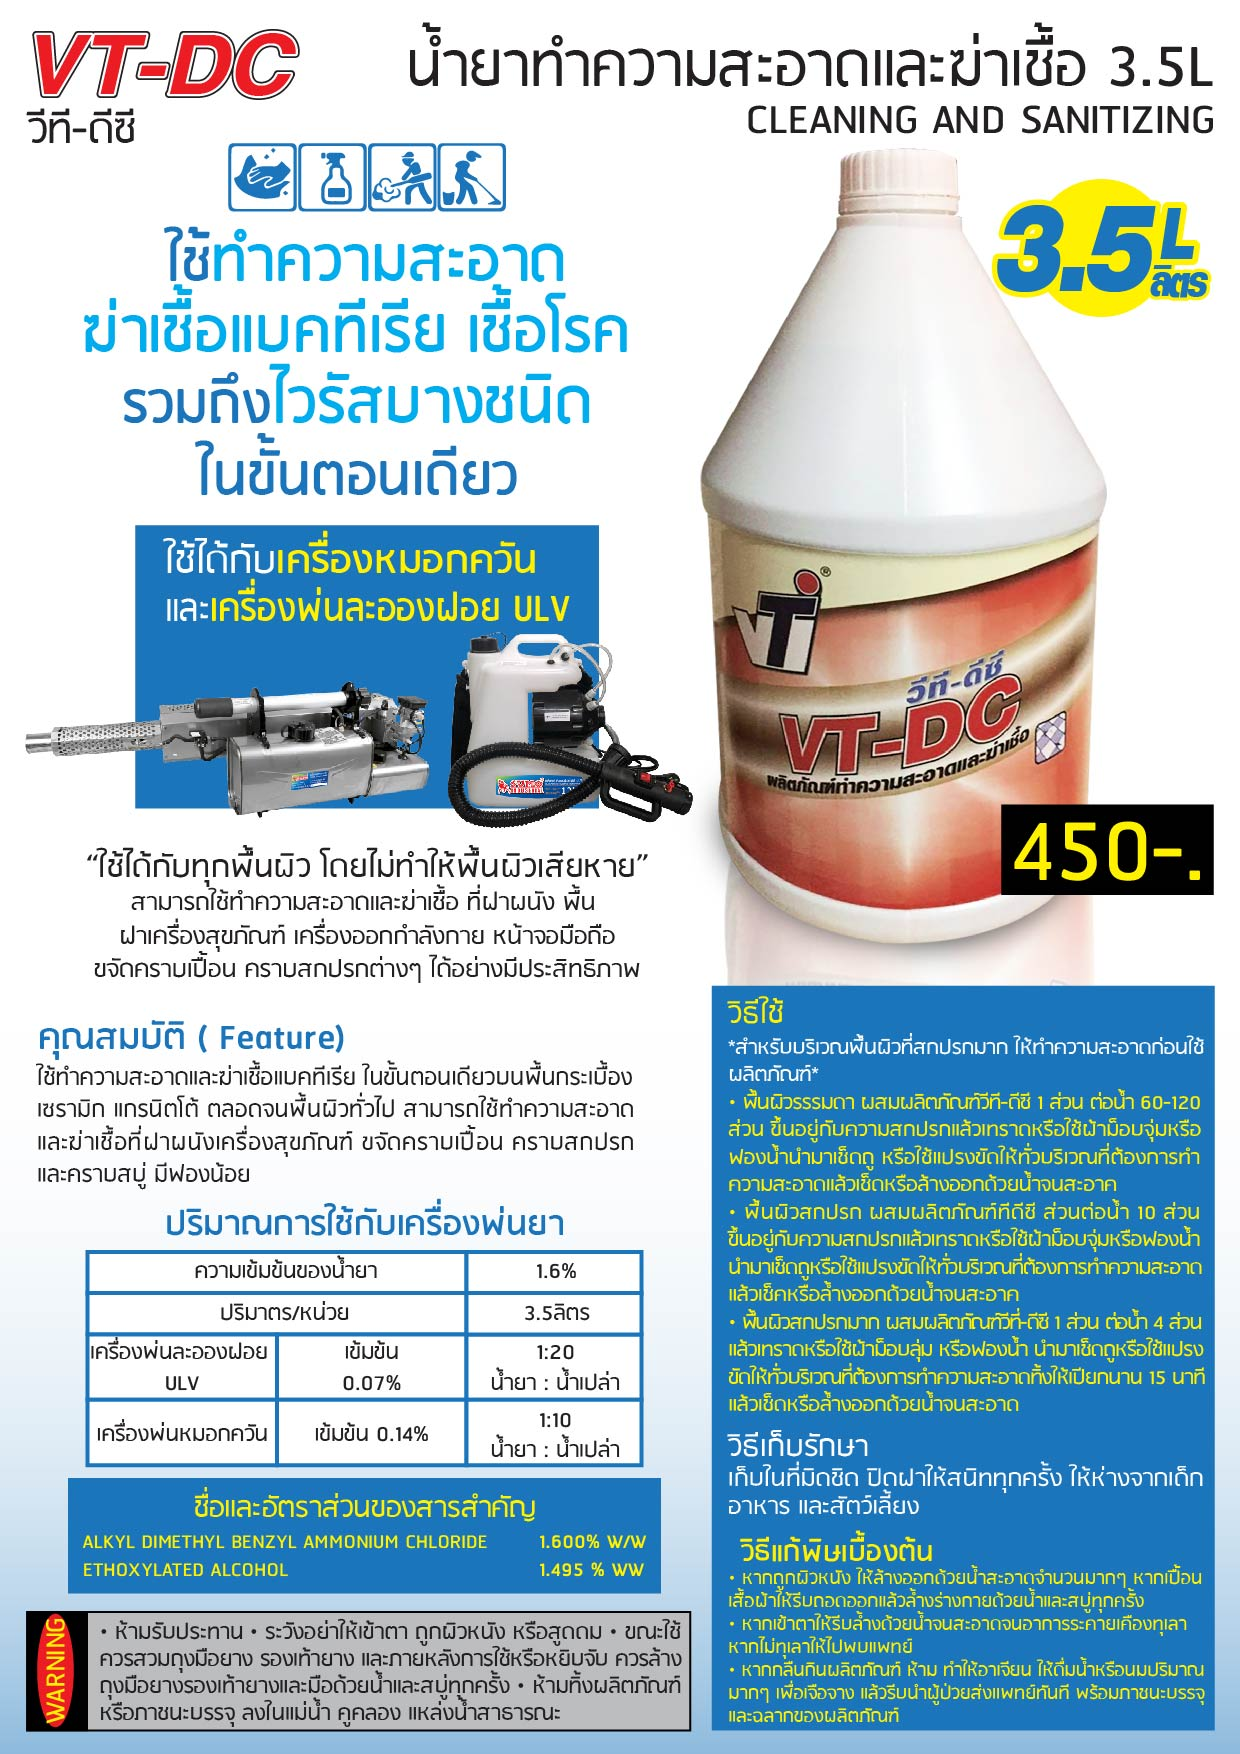Cleaning_solution: (687, 138, 1118, 962)
